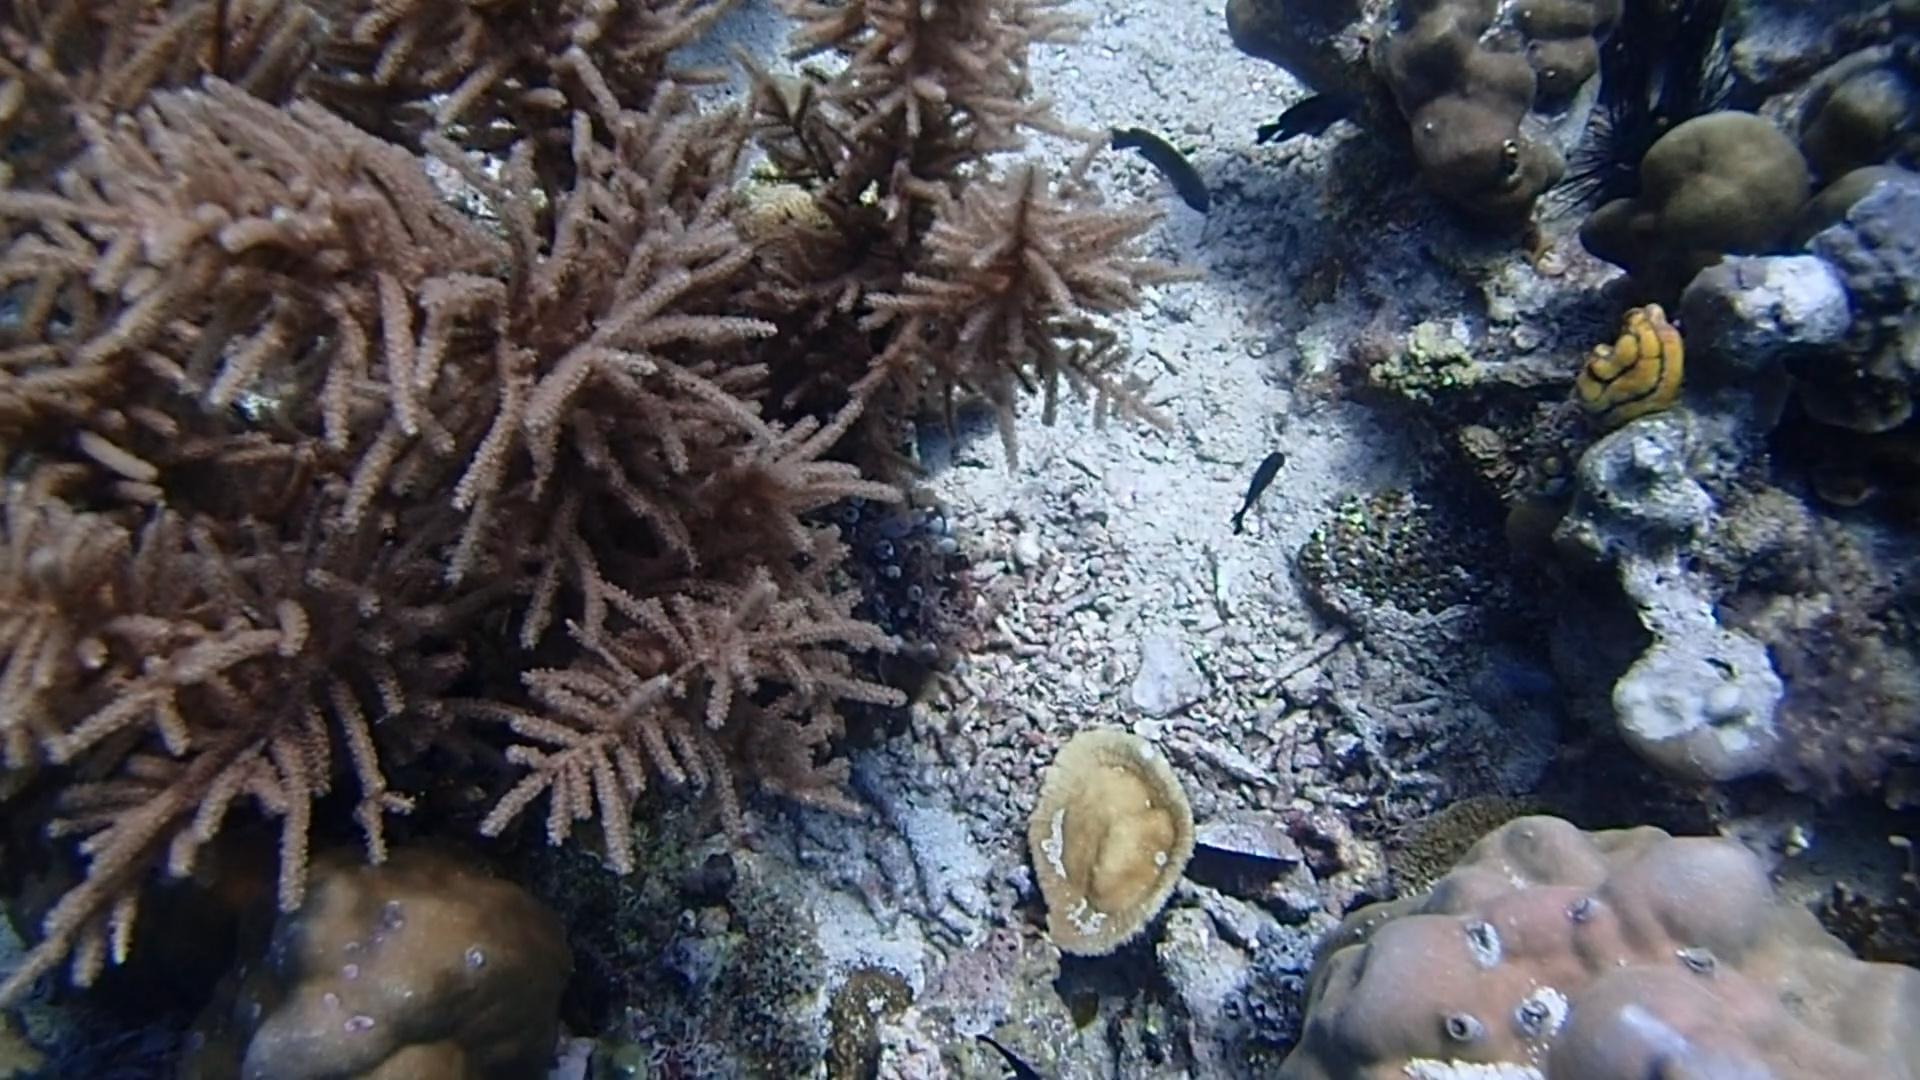Dark Fish: (1097, 115, 1222, 220), (1249, 84, 1357, 154), (1224, 442, 1294, 529)
